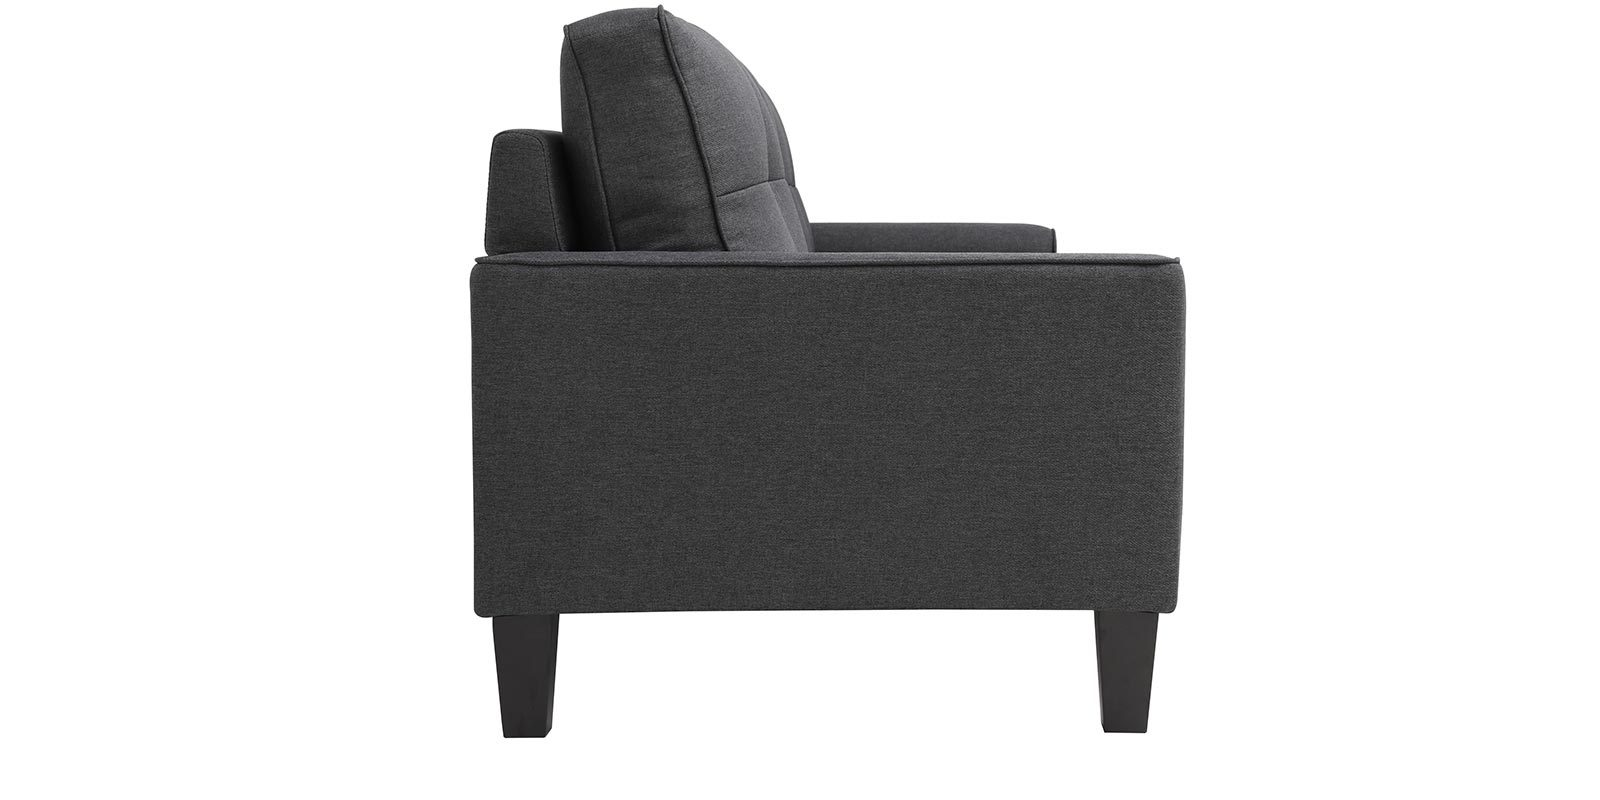Alice Three Seater Sofa in Grey Colour by Zofa: (452, 5, 1192, 773)
